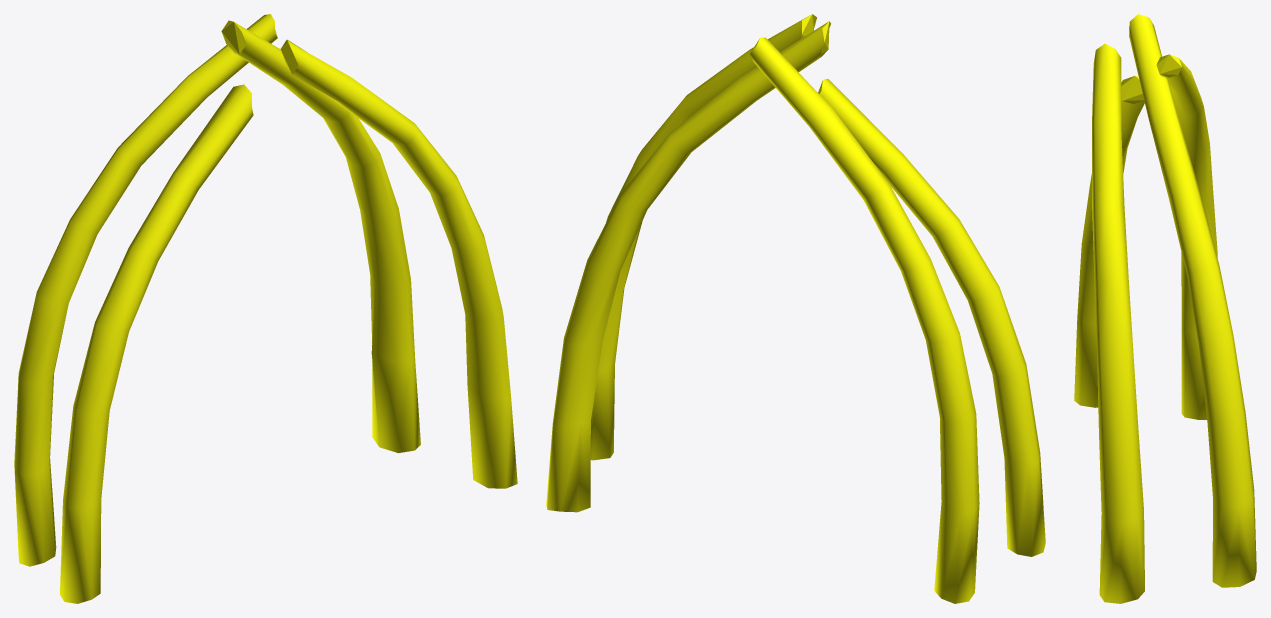
Rendered from bone_whale_deco00.glb.
3 renders of one model, left to right at view 1: azimuth 30°, elevation 25°; view 2: azimuth 150°, elevation 25°; view 3: azimuth 270°, elevation 25°, orthographic. The views are drawn at different scales.
Parts seen in each view (by area): view 1: bone_whale_deco00; view 2: bone_whale_deco00; view 3: bone_whale_deco00.
Part boxes in pixels (box(x1,y1,x2,y2)): bone_whale_deco00: box(14, 14, 517, 603); bone_whale_deco00: box(546, 14, 1045, 603); bone_whale_deco00: box(1074, 14, 1256, 603).
Bounding box in the file's own units: 12.11 × 12.99 × 4.48.
Materials: 1 (1 with a texture image).
